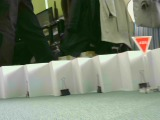stop: (131, 36, 153, 55)
